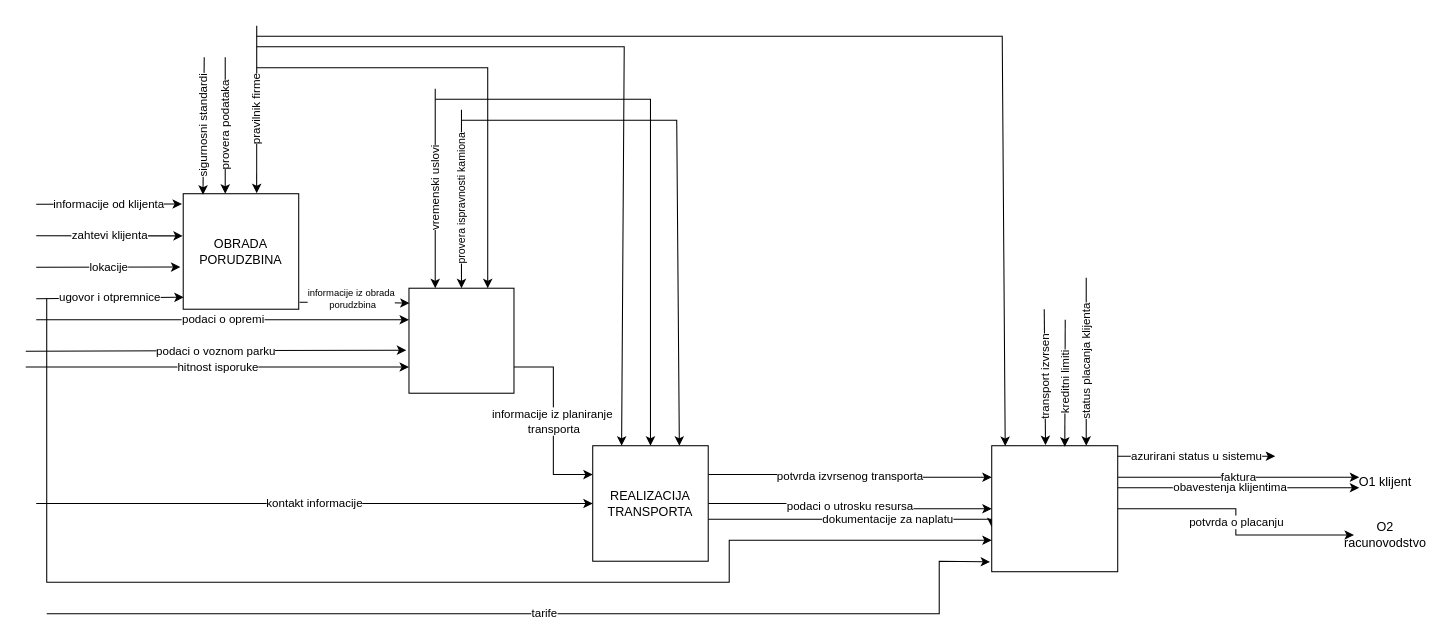
The diagram is 1445 pixels wide and 641 high, and some of its shapes have lost their labels. Here are the shapes that lost their labels. From the top down, the box of each, then its label:
(408, 287, 514, 393): PLANIRANJE TRANSPORTA
(991, 445, 1118, 572): NAPLATA I FAKTURISANJE
